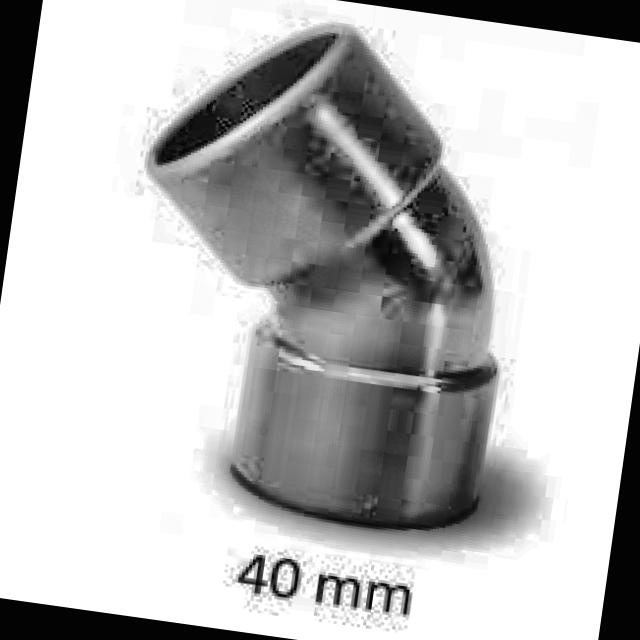ELBOW45: (143, 21, 494, 529)
